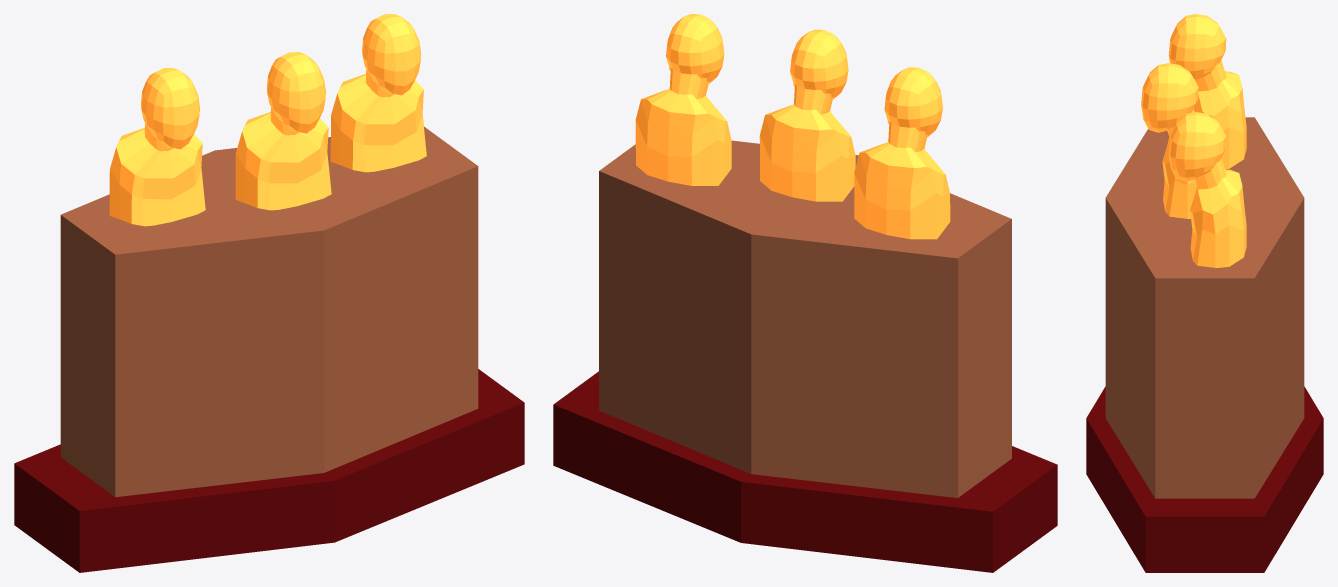
Rendered from monumento3.gltf.
The picture shows the model from 3 angles, left to right: view 1: azimuth 30°, elevation 25°; view 2: azimuth 150°, elevation 25°; view 3: azimuth 270°, elevation 25°; orthographic projection. The views are drawn at different scales.
Parts seen in each view (by area): view 1: Cylinder.001, Cylinder, Cube.001, Cube.004, Cube.002; view 2: Cylinder.001, Cylinder, Cube.004, Cube.002, Cube.001; view 3: Cylinder.001, Cylinder, Cube.002, Cube.004, Cube.001.
Part boxes in pixels (box(x1,y1,x2,y2)): Cylinder.001: box(60, 126, 478, 497); Cylinder: box(14, 369, 524, 572); Cube.001: box(235, 52, 331, 210); Cube.004: box(109, 68, 205, 226); Cube.002: box(330, 14, 426, 172); Cylinder.001: box(599, 140, 1011, 497); Cylinder: box(553, 371, 1057, 572); Cube.004: box(854, 67, 950, 239); Cube.002: box(635, 14, 731, 185); Cube.001: box(759, 29, 855, 201); Cylinder.001: box(1105, 117, 1304, 498); Cylinder: box(1086, 386, 1323, 572); Cube.002: box(1168, 112, 1246, 267); Cube.004: box(1168, 14, 1246, 169); Cube.001: box(1141, 63, 1198, 218).
Bounding box in the file's own units: 1.95 × 1.89 × 0.9895.
